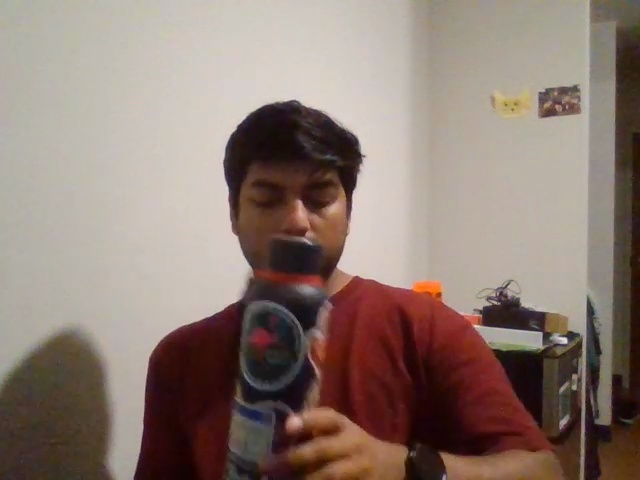bottle: (200, 210, 336, 480)
